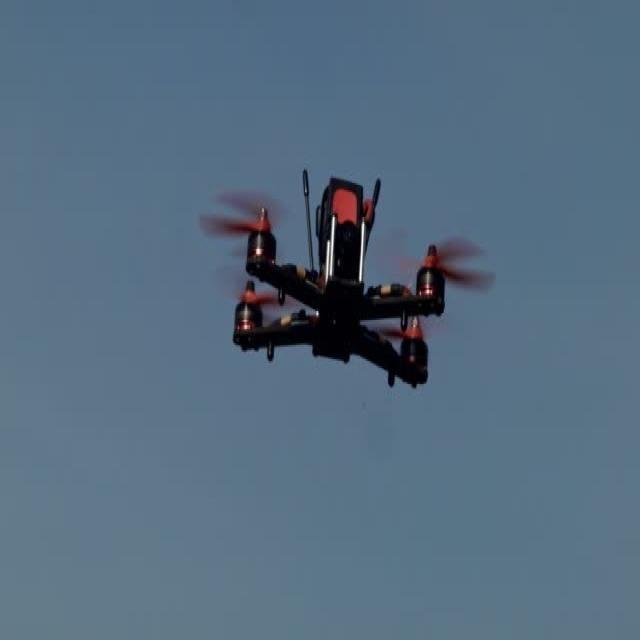drone: (194, 148, 500, 414)
